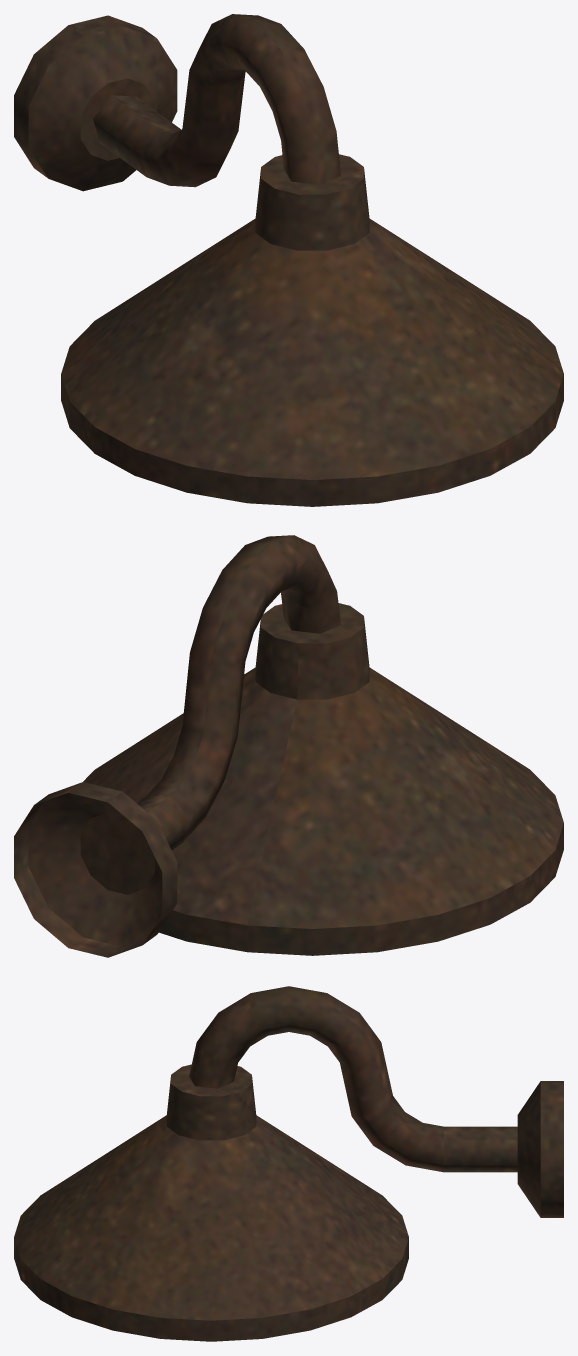
Rendered from lamp_mx_3_on.obj.
3 views of the same model, one above another, from view 1: azimuth 30°, elevation 25°; view 2: azimuth 150°, elevation 25°; view 3: azimuth 270°, elevation 25° (orthographic). The views are drawn at different scales.
Parts seen in each view (by area): view 1: lamp_mx_3_on; view 2: lamp_mx_3_on; view 3: lamp_mx_3_on.
Part boxes in pixels (x1=…): lamp_mx_3_on: x1=14, y1=14, x2=563, y2=506; lamp_mx_3_on: x1=14, y1=535, x2=563, y2=957; lamp_mx_3_on: x1=14, y1=986, x2=563, y2=1341.
Size of the model in its own units: 0.51 by 0.418 by 0.71.
